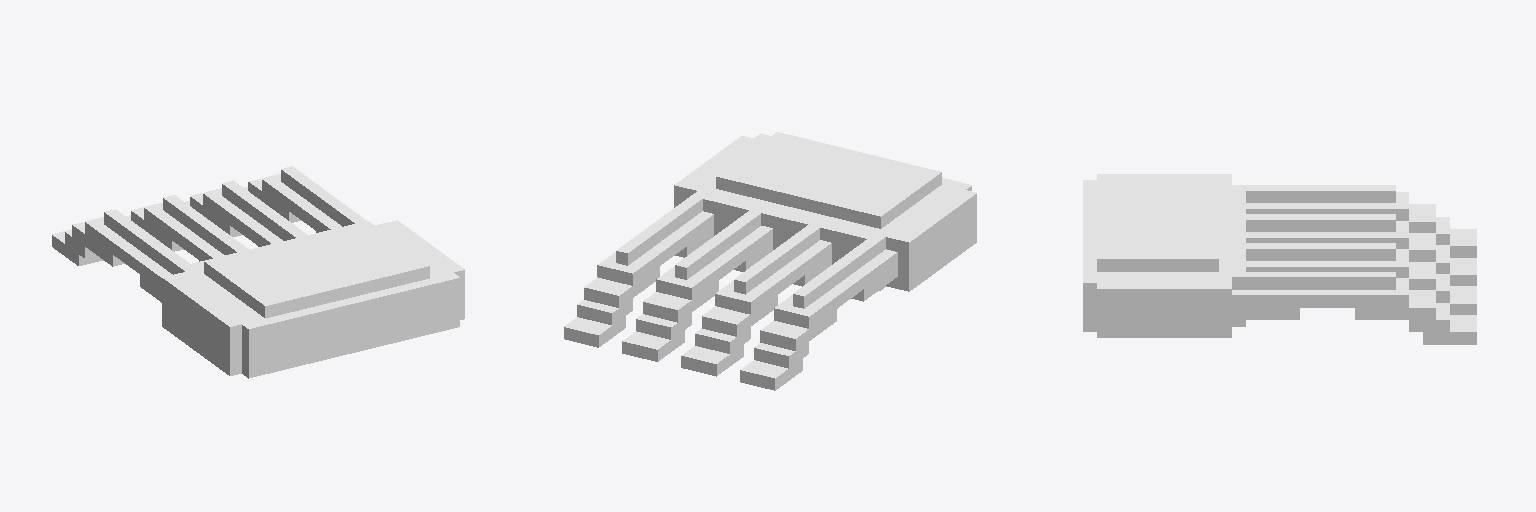
The model's file is hand1.obj.
The picture shows the model from 3 angles: view 1: azimuth 30°, elevation 25°; view 2: azimuth 150°, elevation 25°; view 3: azimuth 270°, elevation 25°; orthographic projection.
Parts seen in each view (by area): view 1: object 1; view 2: object 1; view 3: object 1.
Boxes of the visible parts, x1=… form: object 1: x1=52, y1=166, x2=464, y2=378; object 1: x1=564, y1=132, x2=976, y2=390; object 1: x1=1083, y1=174, x2=1476, y2=344.
Bounding box in the file's own units: 2 × 0.6 × 2.9.